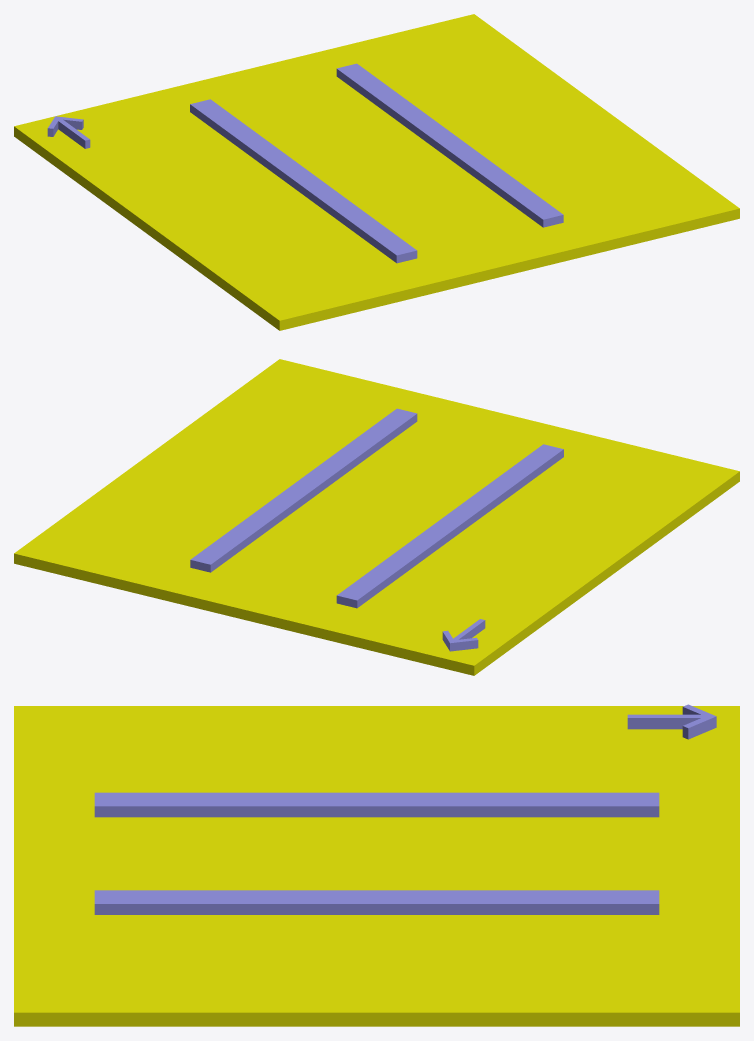
The model's file is mark_2.fbx.
3 views of the same model, one above another, from view 1: azimuth 30°, elevation 25°; view 2: azimuth 150°, elevation 25°; view 3: azimuth 270°, elevation 25° (orthographic). The views are drawn at different scales.
Visible parts, largest first — view 1: pCube3, pCube8, pCube4; view 2: pCube3, pCube8, pCube4; view 3: pCube3, pCube4, pCube8, pCube7.
Part boxes in pixels (x1,y1,x2,y2): pCube3: (14, 14, 739, 330); pCube8: (336, 63, 563, 227); pCube4: (190, 99, 417, 263); pCube3: (14, 359, 739, 675); pCube8: (190, 408, 417, 572); pCube4: (336, 444, 563, 608); pCube3: (14, 706, 739, 1026); pCube4: (94, 792, 659, 817); pCube8: (94, 890, 659, 914); pCube7: (627, 714, 704, 729).
Bounding box in the file's own units: 0.9 × 0.0345 × 0.9.
